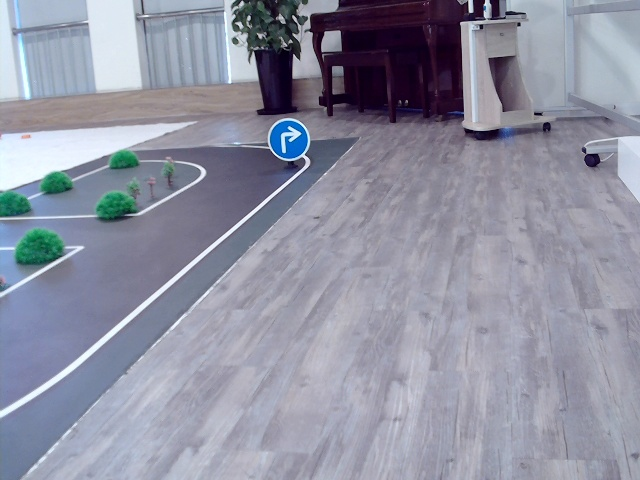turn_right: (279, 125, 300, 154)
